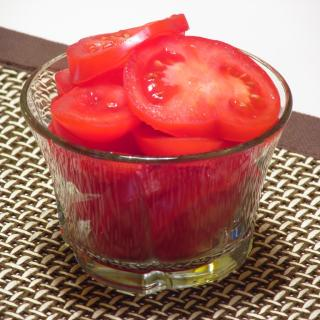tomato: (124, 34, 281, 141), (67, 19, 189, 80), (49, 78, 142, 144), (127, 126, 240, 157)
